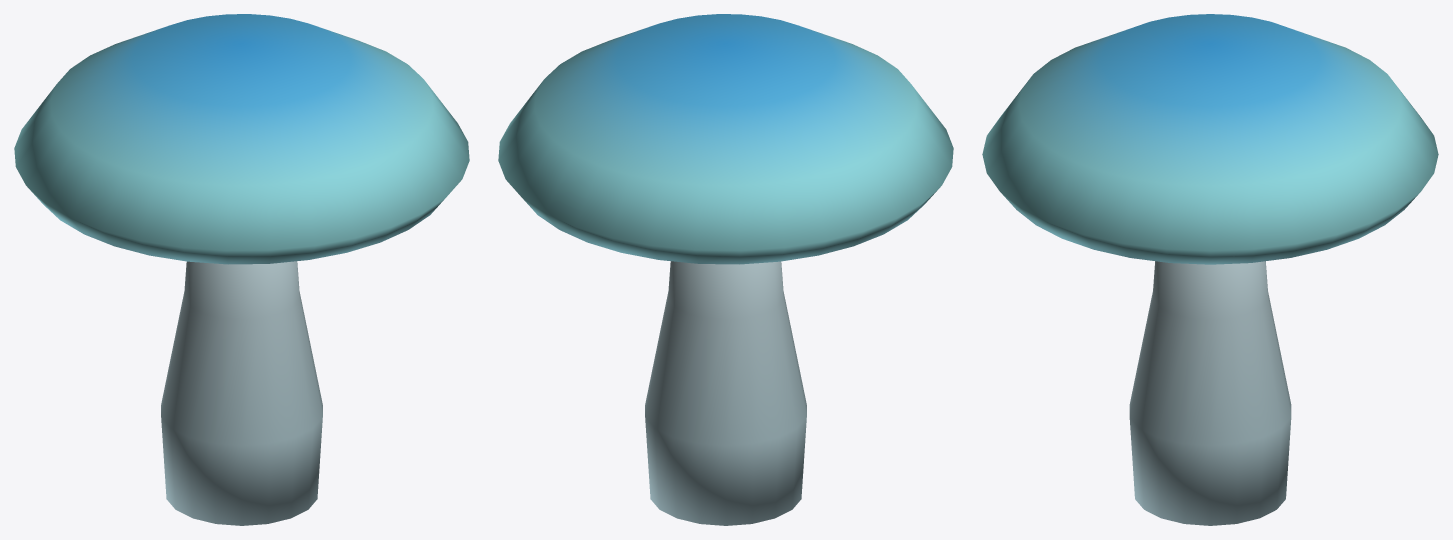
Rendered from Mushroom_Glow.fbx.
3 renders of one model, left to right at view 1: azimuth 30°, elevation 25°; view 2: azimuth 150°, elevation 25°; view 3: azimuth 270°, elevation 25°, orthographic.
Parts seen in each view (by area): view 1: Mushroom_Glow; view 2: Mushroom_Glow; view 3: Mushroom_Glow.
Boxes of the visible parts, box(x1,y1,x2,y2) form: Mushroom_Glow: box(14, 14, 469, 525); Mushroom_Glow: box(498, 14, 953, 525); Mushroom_Glow: box(982, 14, 1438, 525).
Bounding box in the file's own units: 2.5 × 2.72 × 2.5.
